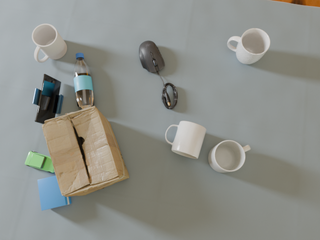bottle: (74, 53, 95, 110)
box: (42, 106, 129, 197), (38, 175, 71, 210)
cup: (165, 121, 206, 159), (227, 28, 270, 64), (208, 140, 250, 173), (32, 24, 67, 63)
mouse: (139, 41, 165, 74)
phone: (35, 74, 61, 124)
toy_car: (25, 151, 54, 173)
